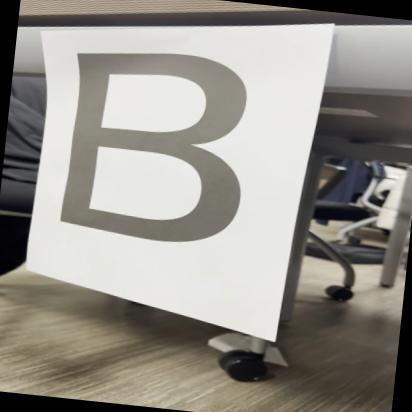seat: (25, 32, 324, 271)
